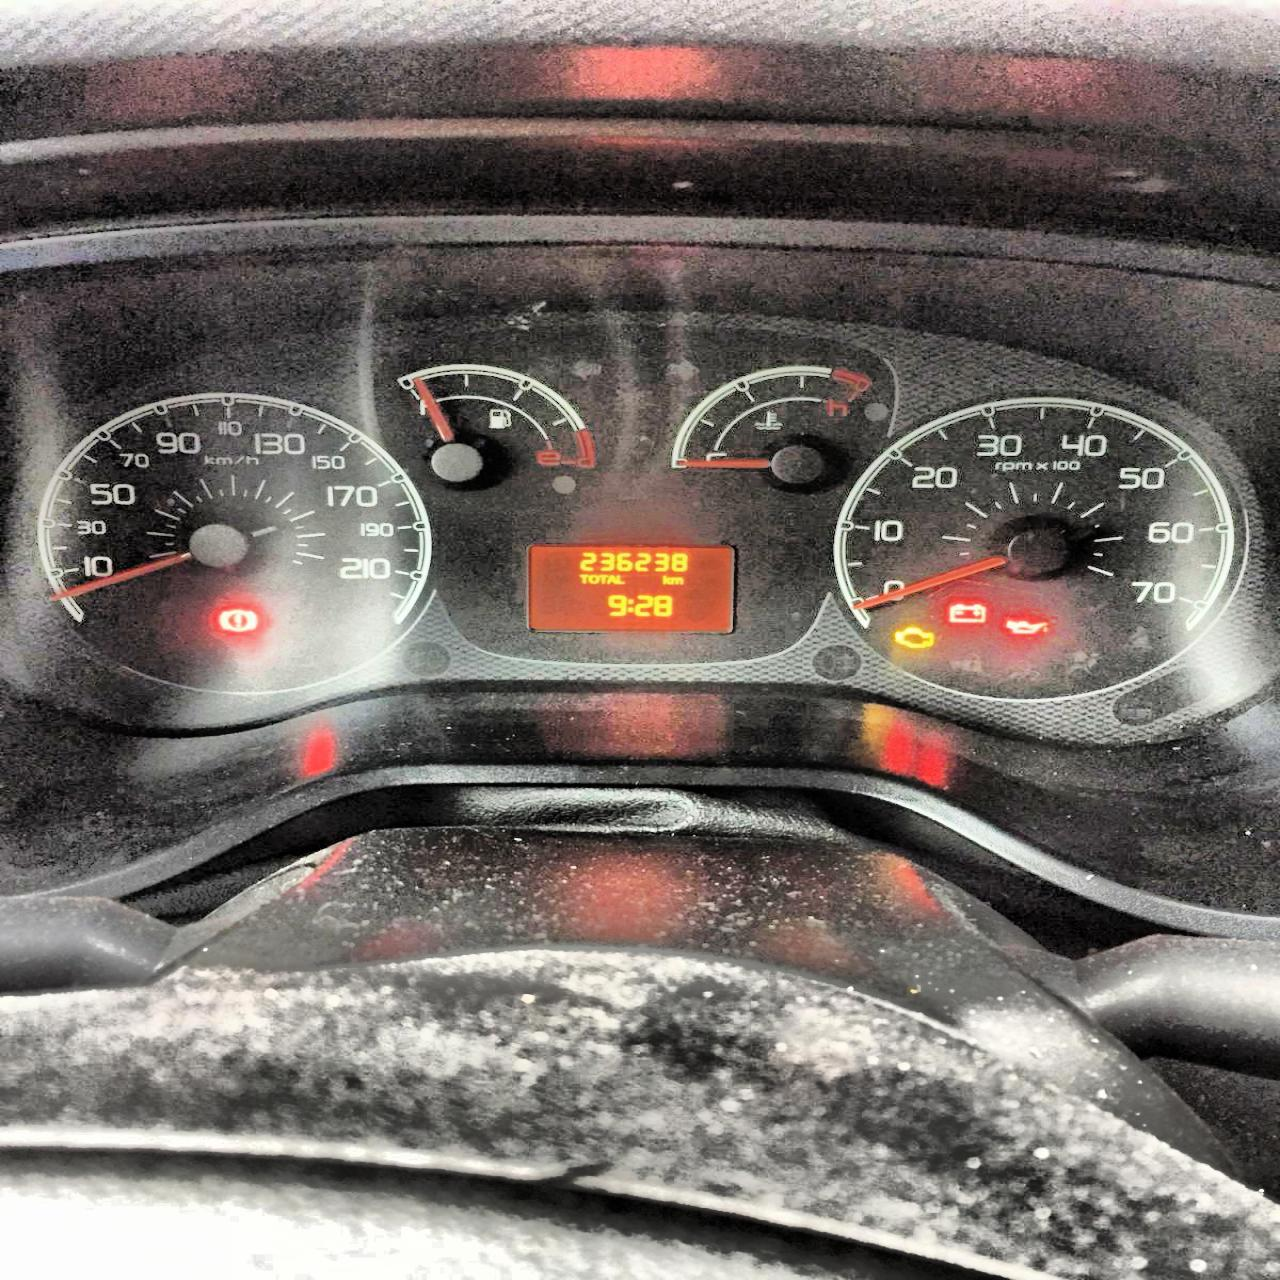2: (633, 593, 652, 618), (577, 550, 595, 571), (634, 551, 649, 571)
3: (599, 551, 614, 571), (654, 551, 668, 572)
6: (617, 551, 633, 571)
8: (653, 594, 673, 617), (670, 551, 688, 572)
9: (607, 593, 626, 615)
X: (626, 597, 634, 614), (587, 573, 598, 584), (598, 573, 607, 585), (615, 573, 625, 585), (670, 576, 683, 584), (578, 573, 587, 584), (607, 574, 615, 584), (661, 574, 669, 584)
odometer: (524, 543, 736, 634)
